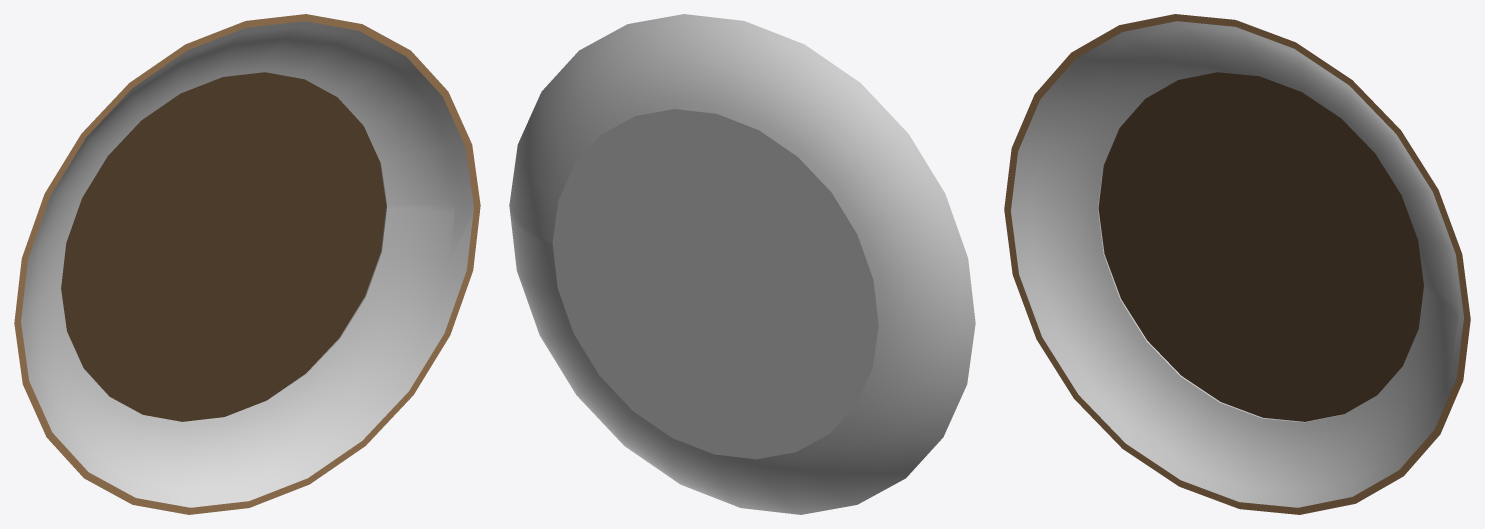
The model's file is Plato1.fbx.
3 views of the same model, side by side, from view 1: azimuth 30°, elevation 25°; view 2: azimuth 150°, elevation 25°; view 3: azimuth 330°, elevation 25° (orthographic).
Visible parts, largest first — view 1: Model; view 2: Model; view 3: Model.
Part boxes in pixels (box(x1,y1,x2,y2)): Model: box(14, 14, 480, 514); Model: box(509, 14, 975, 514); Model: box(1004, 14, 1470, 514).
Size of the model in its own units: 0.2002 by 0.2002 by 0.02.
